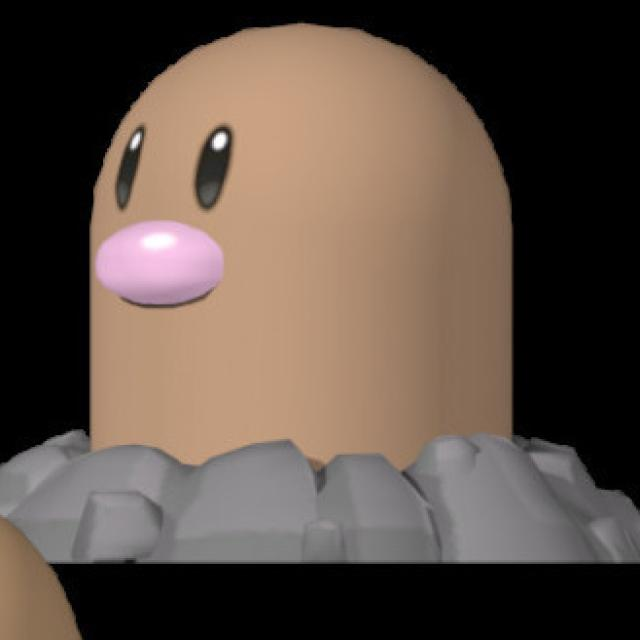Diglett: (71, 18, 527, 489)
